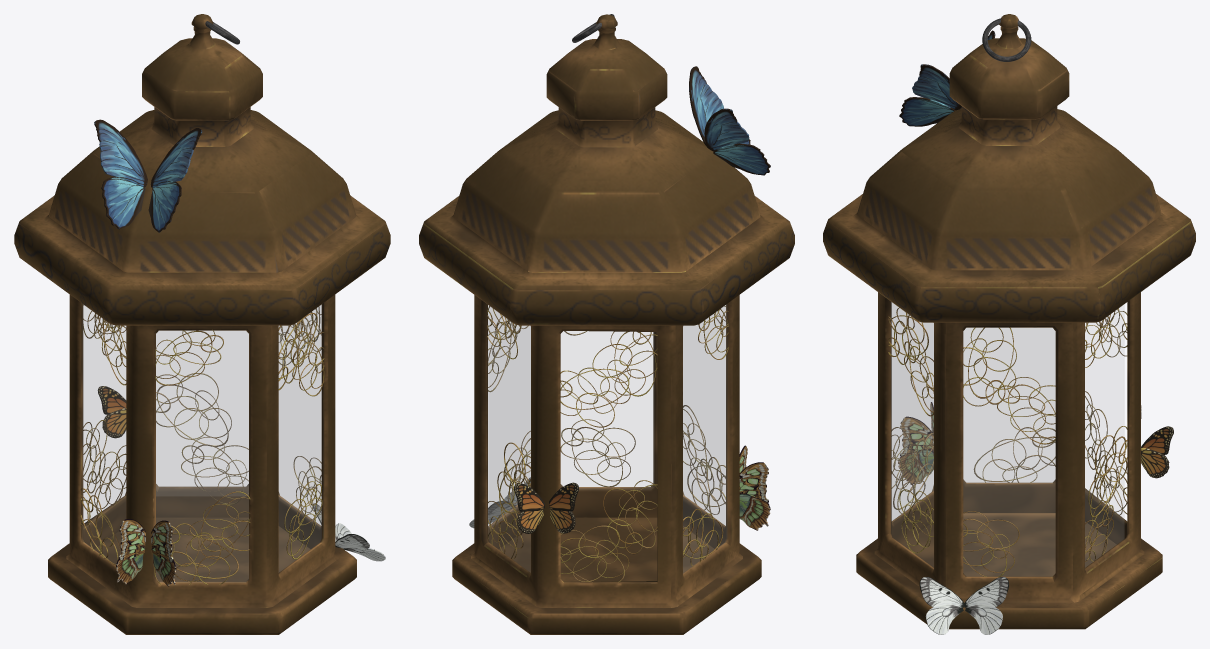
File: lantern test 2.0.fbx
3 renders of one model, left to right at view 1: azimuth 30°, elevation 25°; view 2: azimuth 150°, elevation 25°; view 3: azimuth 270°, elevation 25°, orthographic.
Visible parts, largest first — view 1: Cube.109, Cube.004, Cube.001, Cube.003, Cube.005, Cube; view 2: Cube.109, Cube.005, Cube.003, Cube.001, Cube.004, Cube; view 3: Cube.109, Cube, Cube.003, Cube.005, Cube.001, Cube.004.
Part boxes in pixels (x1=…): Cube.109: x1=14, y1=14, x2=390, y2=634; Cube.004: x1=156, y1=331, x2=248, y2=581; Cube.001: x1=156, y1=331, x2=248, y2=495; Cube.003: x1=83, y1=305, x2=125, y2=563; Cube.005: x1=279, y1=305, x2=321, y2=571; Cube: x1=279, y1=306, x2=320, y2=526; Cube.109: x1=419, y1=14, x2=794, y2=634; Cube.005: x1=561, y1=331, x2=653, y2=487; Cube.003: x1=683, y1=305, x2=726, y2=572; Cube.001: x1=488, y1=305, x2=530, y2=571; Cube.004: x1=683, y1=306, x2=725, y2=524; Cube: x1=488, y1=306, x2=530, y2=526; Cube.109: x1=823, y1=14, x2=1195, y2=634; Cube: x1=964, y1=328, x2=1054, y2=575; Cube.003: x1=964, y1=328, x2=1054, y2=482; Cube.005: x1=891, y1=302, x2=933, y2=566; Cube.001: x1=1085, y1=305, x2=1123, y2=566; Cube.004: x1=892, y1=303, x2=933, y2=519.
Bounding box in the file's own units: 785 × 1478 × 893.
